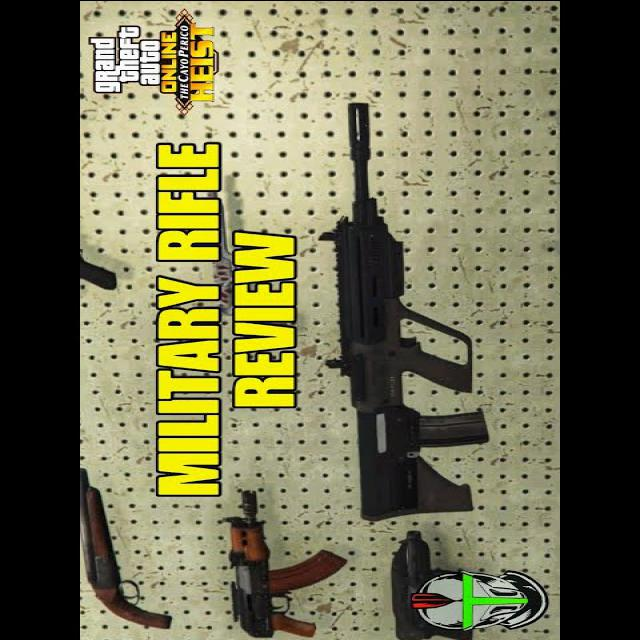long weapon: (306, 89, 520, 533)
